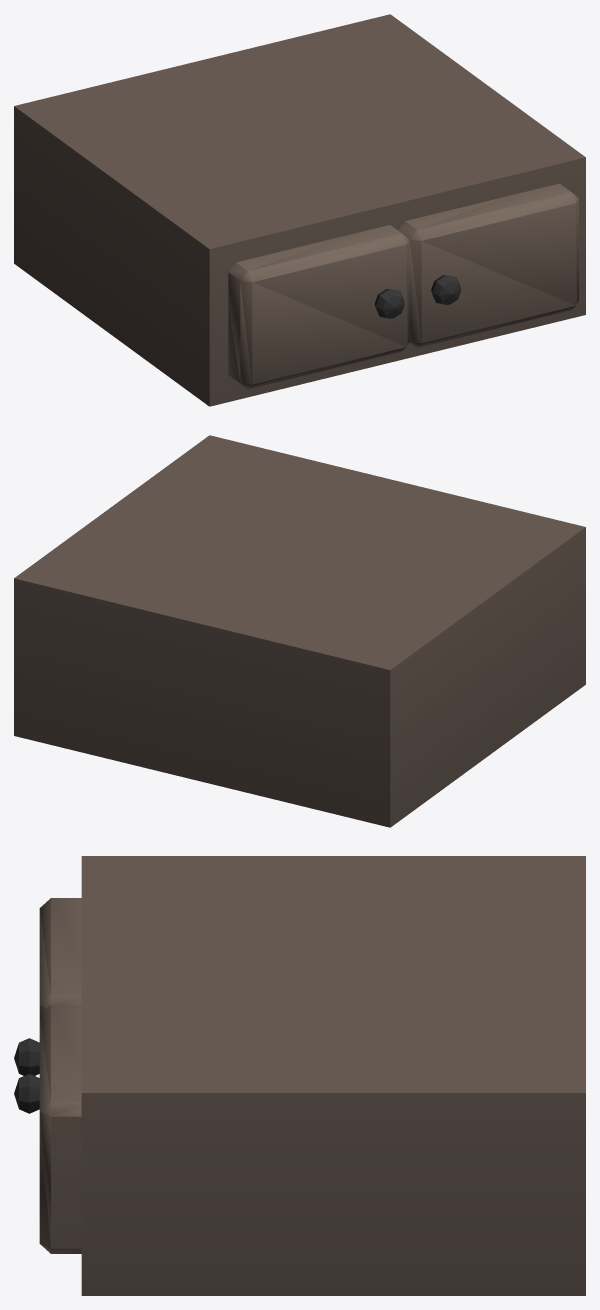
Rendered from kitchencounter_straight_B_cab_only_styleB_flat.gltf.
3 renders of one model, top to bottom at view 1: azimuth 30°, elevation 25°; view 2: azimuth 150°, elevation 25°; view 3: azimuth 270°, elevation 25°, orthographic. The views are drawn at different scales.
Visible parts, largest first — view 1: kitchencounter_straight_B_backsplash_styleB; view 2: kitchencounter_straight_B_backsplash_styleB; view 3: kitchencounter_straight_B_backsplash_styleB.
Part boxes in pixels (<box>): kitchencounter_straight_B_backsplash_styleB: <box>14,14,585,406</box>; kitchencounter_straight_B_backsplash_styleB: <box>14,435,585,827</box>; kitchencounter_straight_B_backsplash_styleB: <box>14,856,585,1295</box>.
Size of the model in its own units: 2 by 0.8 by 2.04.
Materials: 1 (1 with a texture image).
